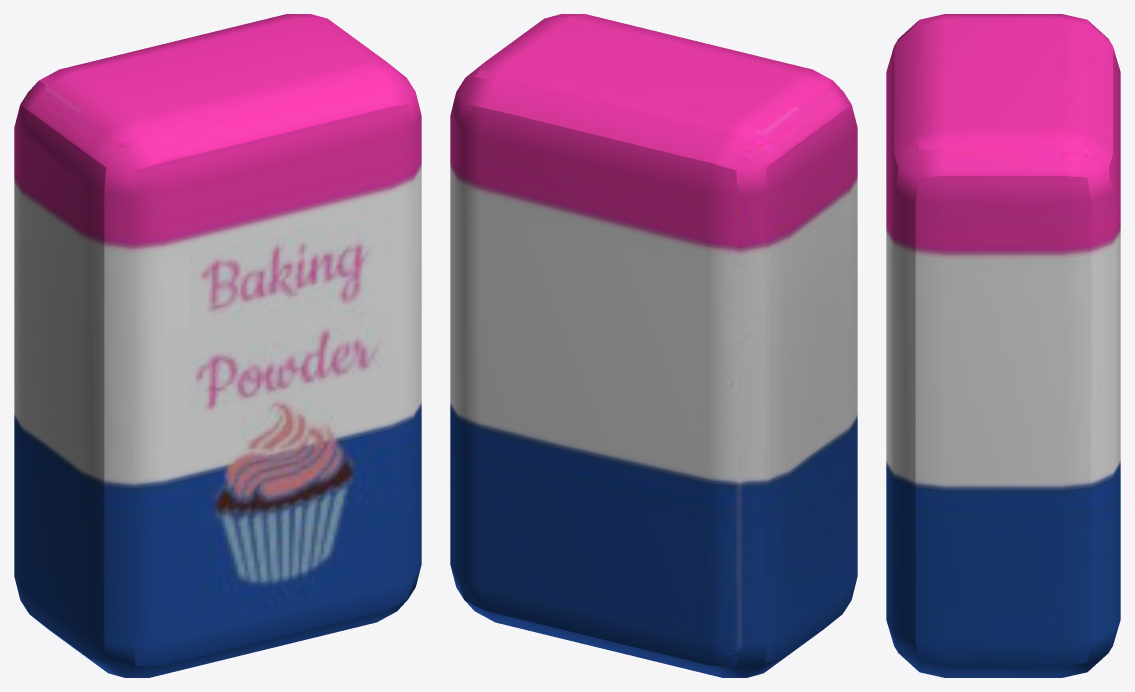
File: bakingPowder.glb
3 views of the same model, side by side, from view 1: azimuth 30°, elevation 25°; view 2: azimuth 150°, elevation 25°; view 3: azimuth 270°, elevation 25° (orthographic). The views are drawn at different scales.
Visible parts, largest first — view 1: BakingPowder; view 2: BakingPowder; view 3: BakingPowder.
Part boxes in pixels (x1,y1,x2,y2): BakingPowder: (14, 14, 421, 677); BakingPowder: (450, 14, 857, 677); BakingPowder: (886, 14, 1120, 677).
Bounding box in the file's own units: 0.1297 × 0.2083 × 0.0813.
1 material, 1 textured.
